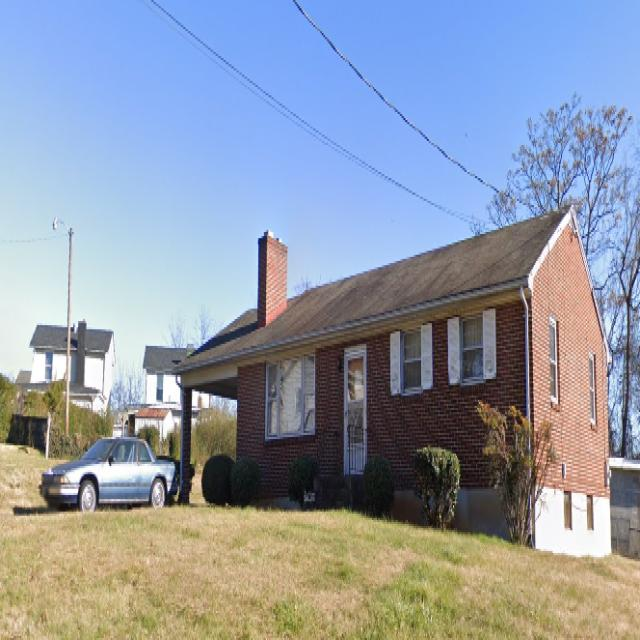House: (170, 207, 612, 556), (14, 315, 116, 418), (142, 343, 212, 447)
